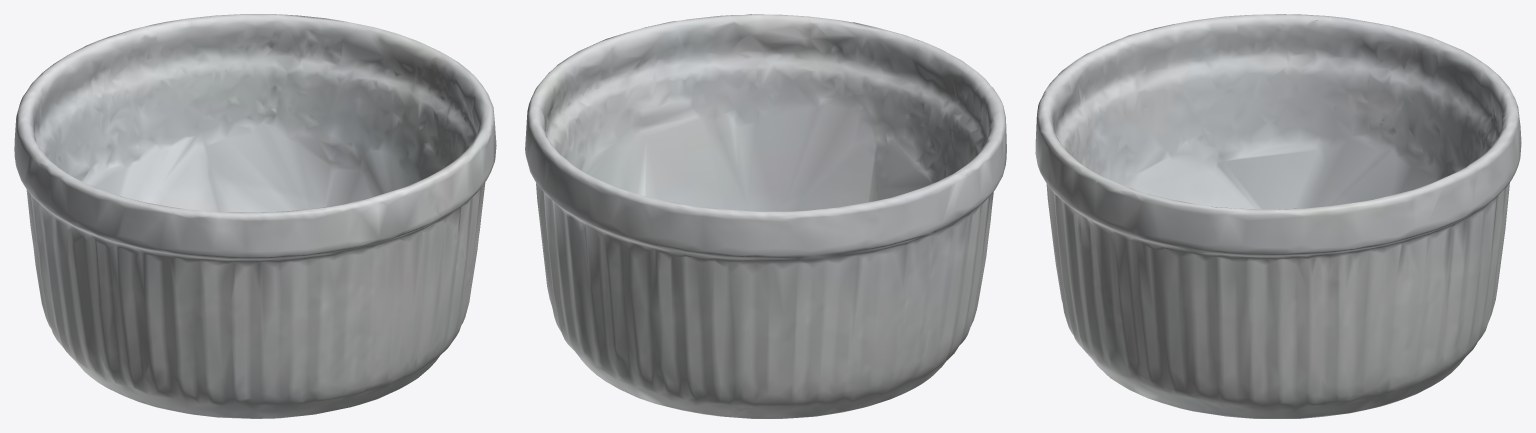
File: Utana_5_Porcelain_Ramekin_Large-high.glb
3 renders of one model, left to right at view 1: azimuth 30°, elevation 25°; view 2: azimuth 150°, elevation 25°; view 3: azimuth 270°, elevation 25°, orthographic.
Parts seen in each view (by area): view 1: Utana_5_Porcelain_Ramekin_Large; view 2: Utana_5_Porcelain_Ramekin_Large; view 3: Utana_5_Porcelain_Ramekin_Large.
Part boxes in pixels (x1,y1,x2,y2): Utana_5_Porcelain_Ramekin_Large: (14,14,496,418); Utana_5_Porcelain_Ramekin_Large: (525,14,1006,418); Utana_5_Porcelain_Ramekin_Large: (1035,14,1521,418).
Size of the model in its own units: 0.1325 by 0.0696 by 0.1317.
Materials: 1 (1 with a texture image).
